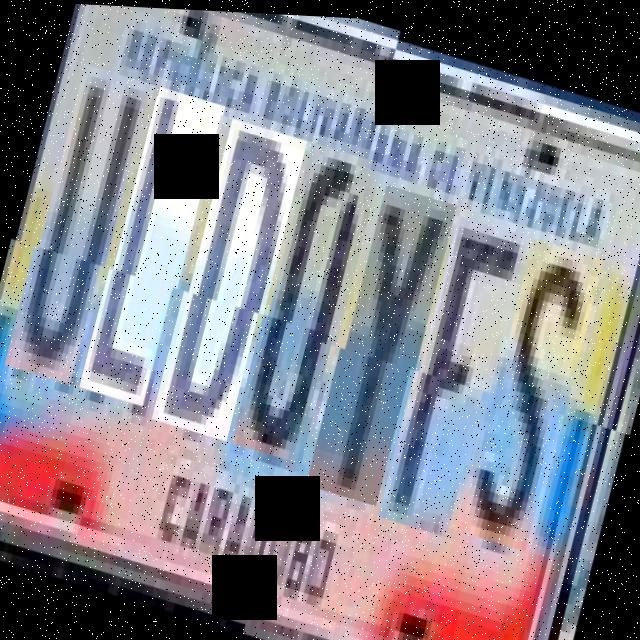0: (233, 145, 379, 473)
D: (153, 122, 304, 452)
F: (382, 207, 528, 537)
L: (81, 91, 223, 419)
S: (459, 229, 604, 549)
U: (6, 69, 148, 397)
Y: (310, 177, 456, 506)
